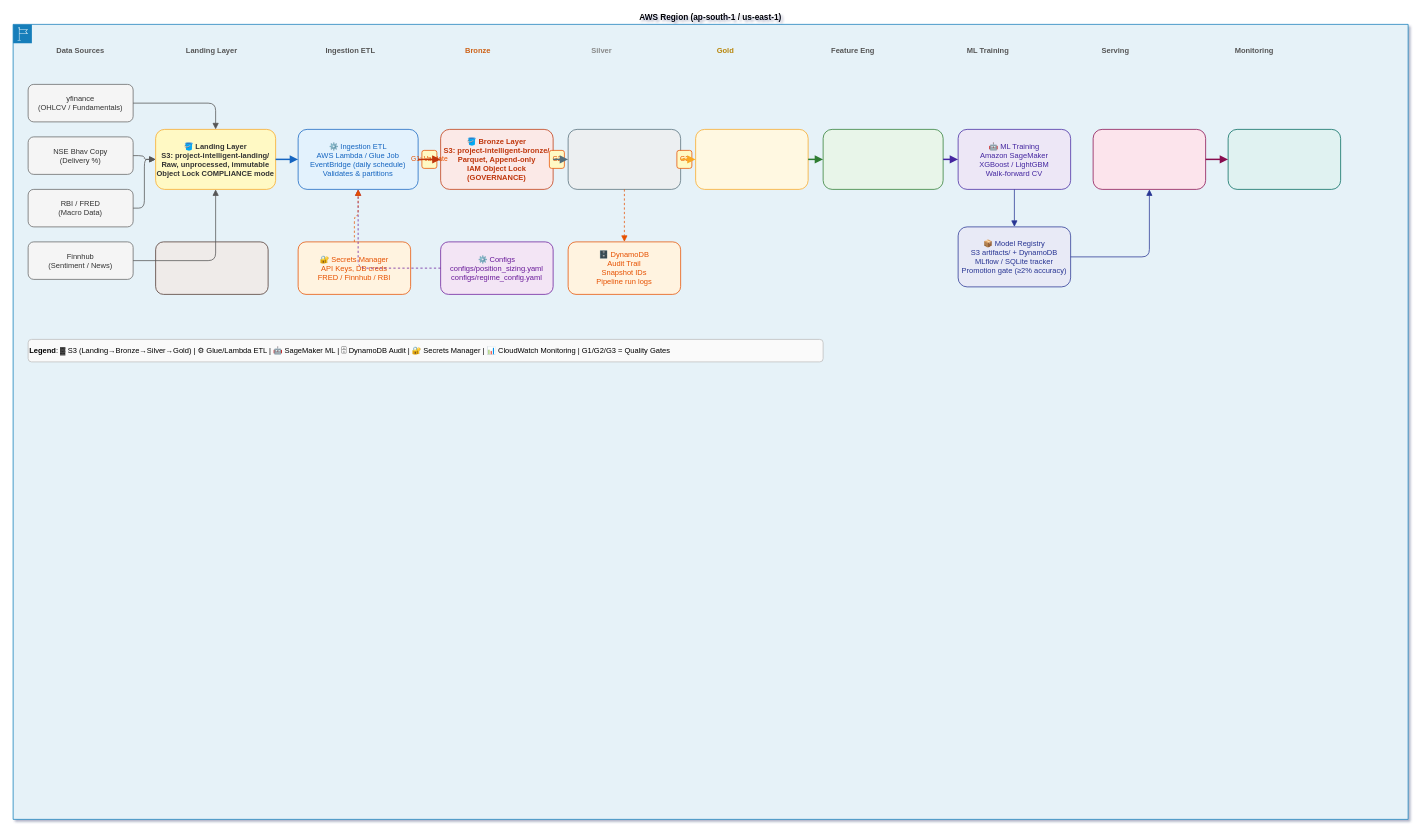
Image size: 1426x837. Some labels were removed from this diagram. Here are the shapes that lost their labels. From the top down, the centre of each, then its label:
the point at 624,159: 🪣 Silver Layer S3 + Apache Iceberg AWS Glue Catalog Dedup, Enrich, Schema
the point at 751,159: 🪣 Gold Layer S3 + Apache Iceberg AWS Glue Catalog Features + Labels
the point at 882,159: ⚙️ Feature Engineering AWS Glue / Lambda 10 Feature Groups Look-ahead bias audit
the point at 1149,159: 🚀 Model Serving SageMaker Endpoint 5 Serving Gates Batch Inference (daily)
the point at 1284,159: 📊 Monitoring Amazon CloudWatch Drift alerts, Latency Pipeline health checks
the point at 211,267: 🔄 CI/CD GitHub Actions Terraform / IaC Automated tests
